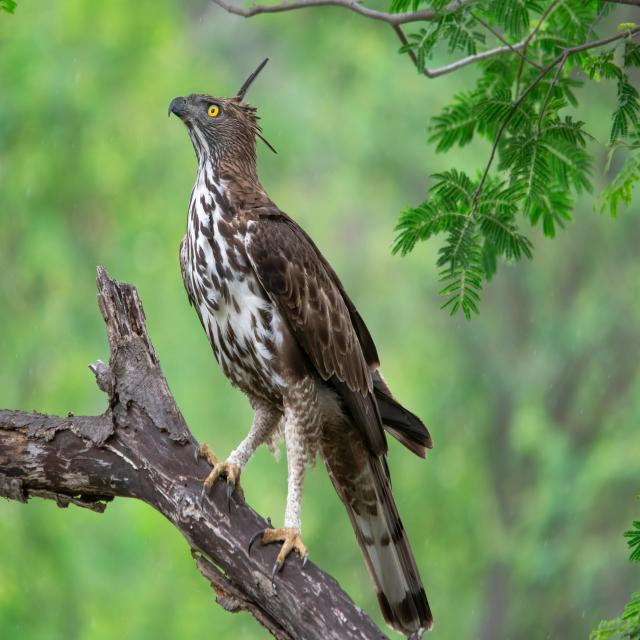Elang Jawa: (139, 34, 449, 640)
